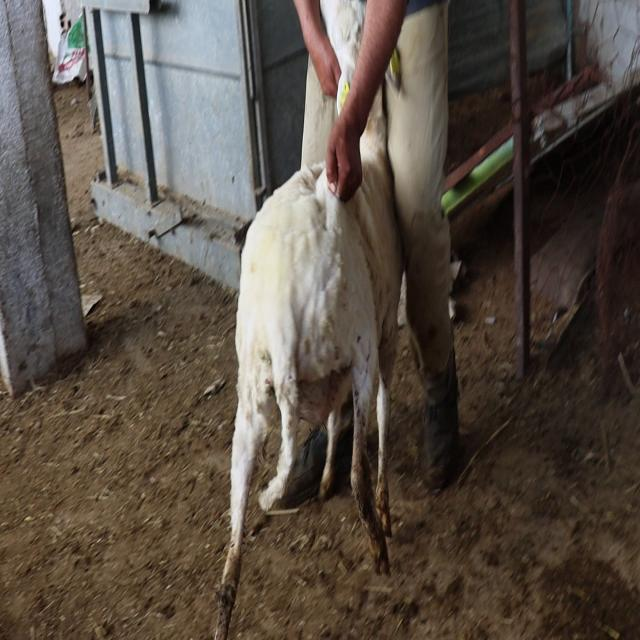Score_4: (216, 100, 402, 639)
